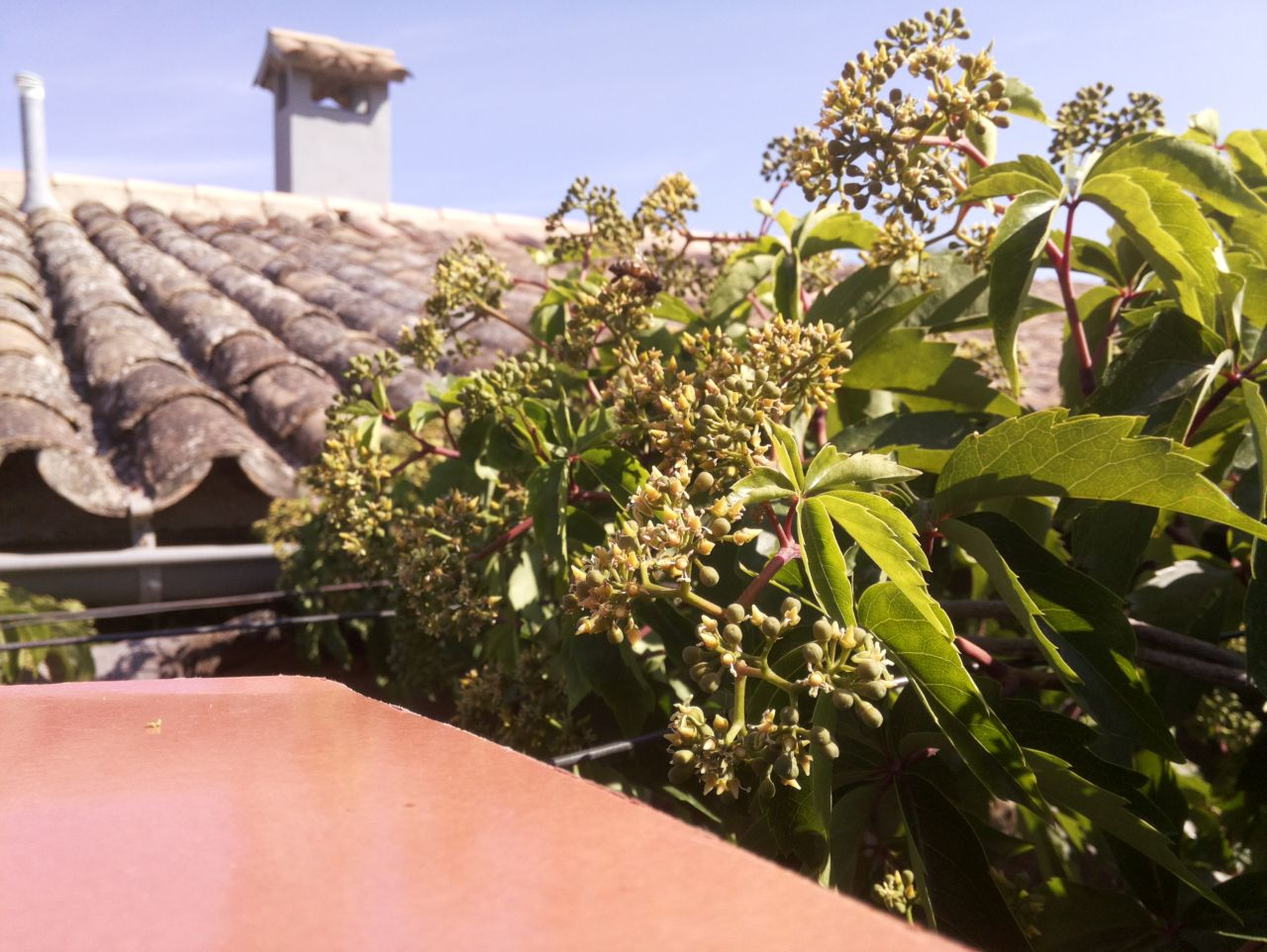Apis mellifera: (606, 254, 667, 293)
